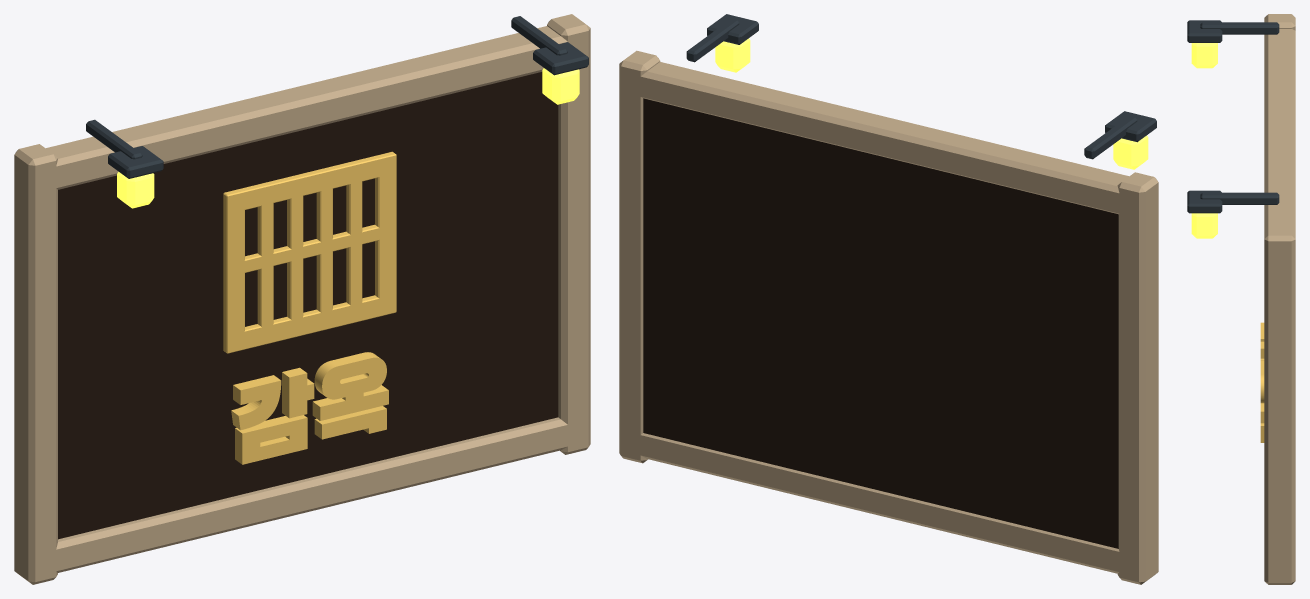
File: MD_Sign_Prison.fbx
3 views of the same model, side by side, from view 1: azimuth 30°, elevation 25°; view 2: azimuth 150°, elevation 25°; view 3: azimuth 270°, elevation 25° (orthographic). The views are drawn at different scales.
Parts seen in each view (by area): view 1: MD_Sign_Prison; view 2: MD_Sign_Prison; view 3: MD_Sign_Prison.
Part boxes in pixels (x1,y1,x2,y2): MD_Sign_Prison: (14, 14, 590, 584); MD_Sign_Prison: (619, 14, 1158, 584); MD_Sign_Prison: (1187, 14, 1295, 584).
Bounding box in the file's own units: 304 × 230 × 62.
